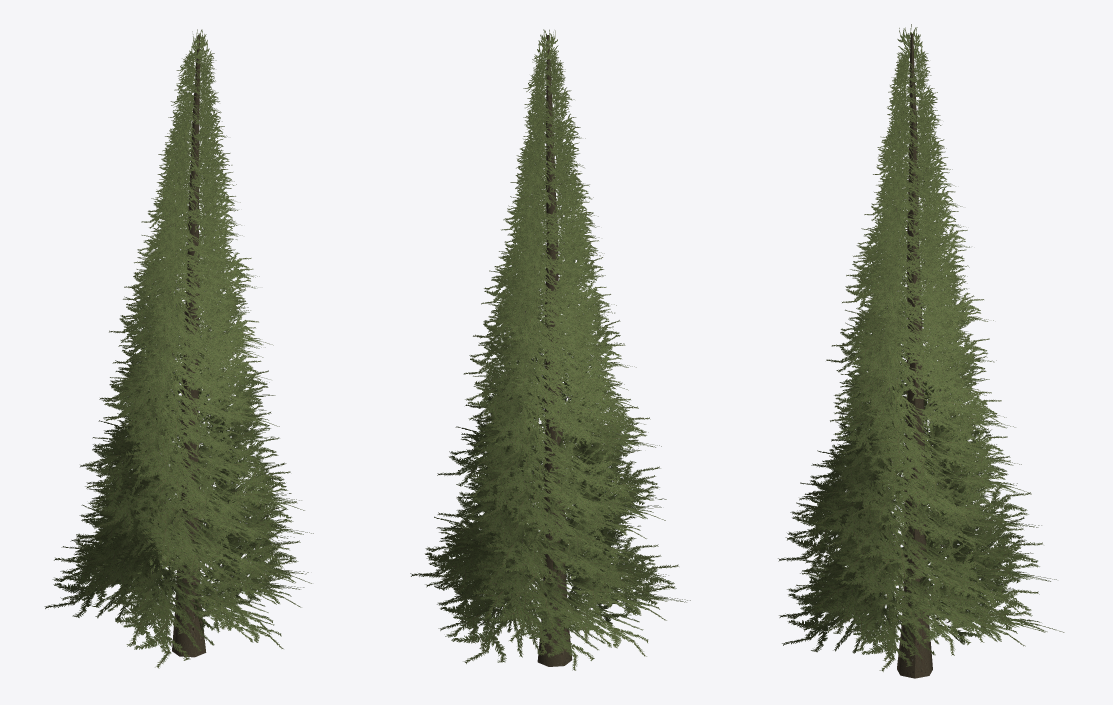
The model's file is SM_Spruce_02_LOD.gltf.
3 renders of one model, left to right at view 1: azimuth 30°, elevation 25°; view 2: azimuth 150°, elevation 25°; view 3: azimuth 270°, elevation 25°, orthographic. The views are drawn at different scales.
Visible parts, largest first — view 1: SM_Spruce_02_LOD; view 2: SM_Spruce_02_LOD; view 3: SM_Spruce_02_LOD.
Part boxes in pixels (<box>): SM_Spruce_02_LOD: <box>44,29,313,668</box>; SM_Spruce_02_LOD: <box>410,29,690,670</box>; SM_Spruce_02_LOD: <box>778,24,1064,678</box>.
Size of the model in its own units: 7.9 by 16.06 by 7.75.
Materials: 2 (2 with a texture image).
